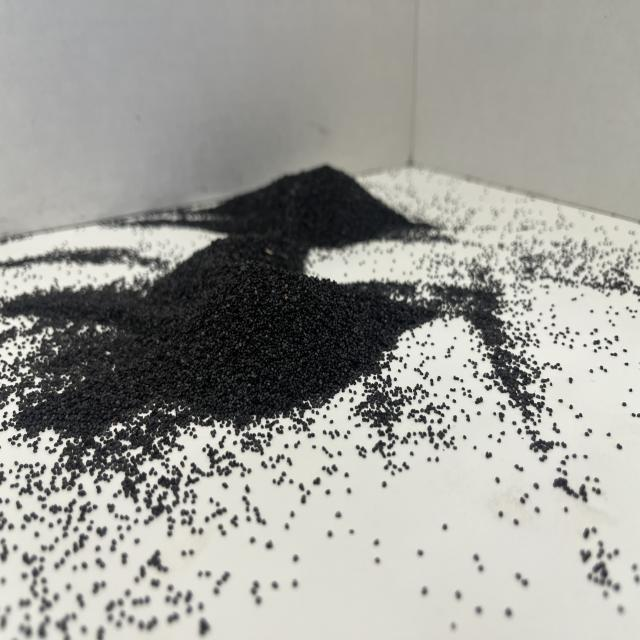Poppy Seeds: (25, 239, 457, 480)
